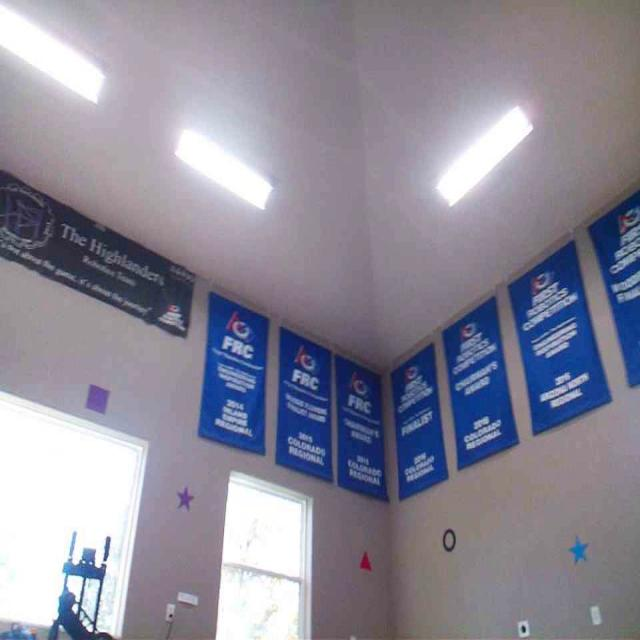ring_black: (442, 526, 455, 551)
square_purple: (83, 382, 110, 414)
star_blue: (566, 535, 588, 565)
star_purple: (177, 485, 192, 511)
triangle_red: (359, 550, 372, 572)
